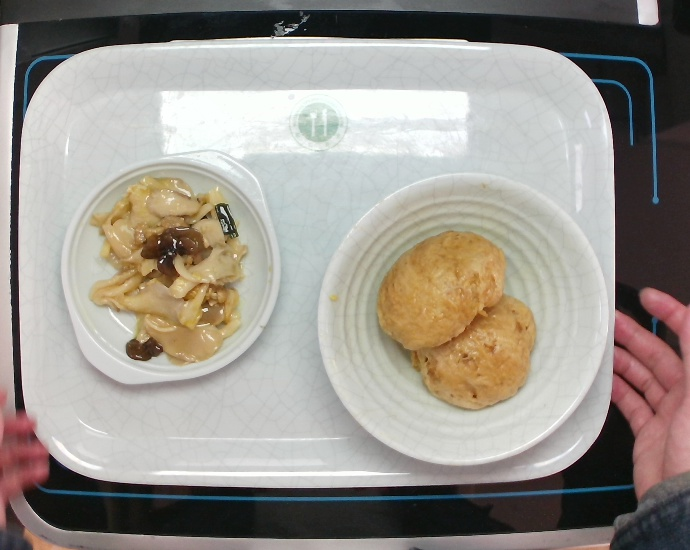JYsf-Shuang_Er_Pan: (58, 147, 283, 388)
JYsf-Xiao_Tang_Wan: (314, 169, 611, 468)
